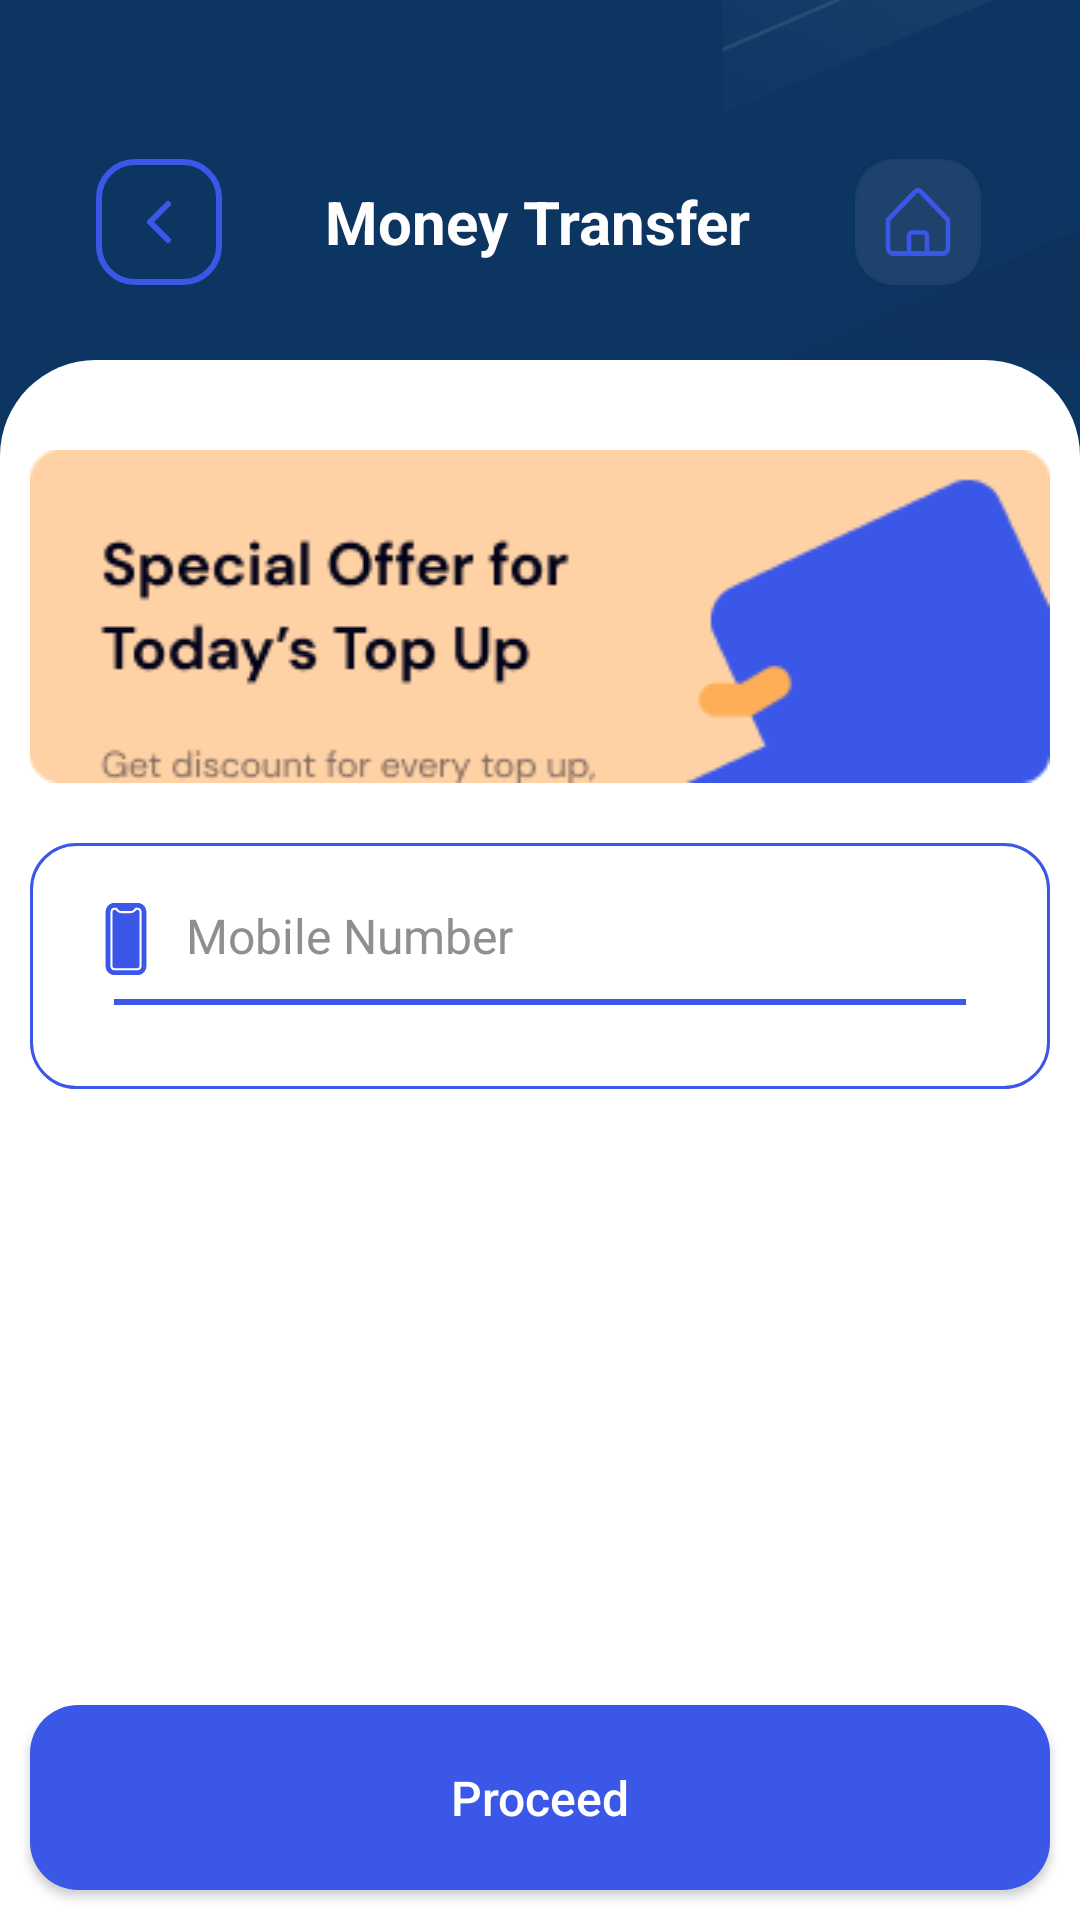

Icon bounding boxes for this 1080 × 1920 phone screenshot, format [x1, y1, x2, y2]:
back: [96, 159, 222, 285]
home: [855, 159, 981, 285]
